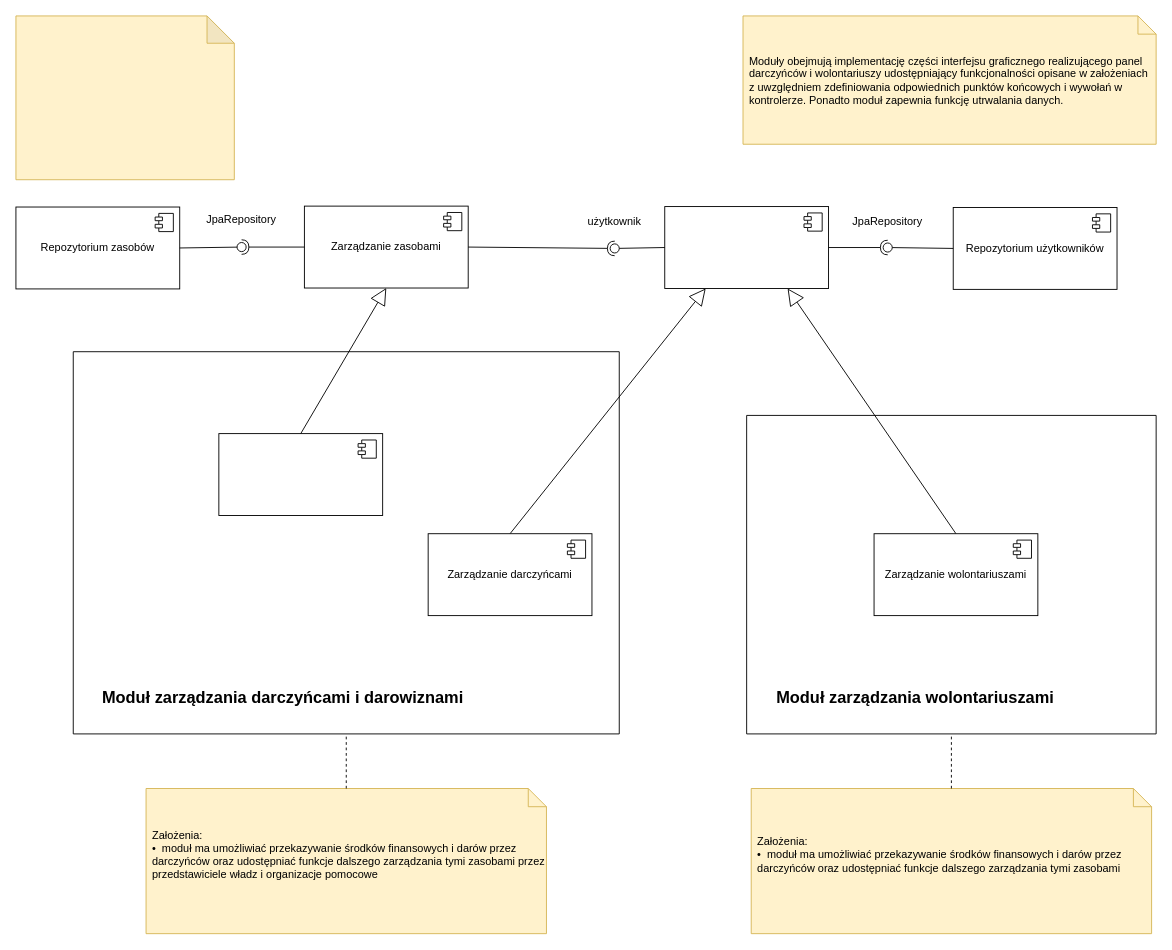
Some shapes in this 1172 by 950 pixel diagram are drawn without their labels. The box of each missing label's shape, as (x1, y1, x2, y2) in pixels:
Projektanci: • Piotr Pinkier • Jakub Kopeć: (15, 15, 234, 180)
Zarządzanie darowiznami: (218, 433, 383, 516)
Zarządzanie użytkownikami: (664, 206, 829, 288)
